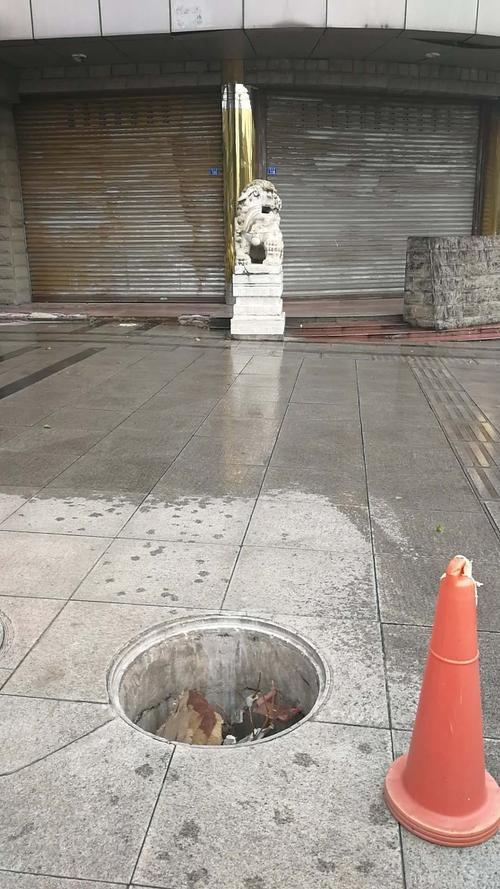lose: (93, 605, 336, 762)
